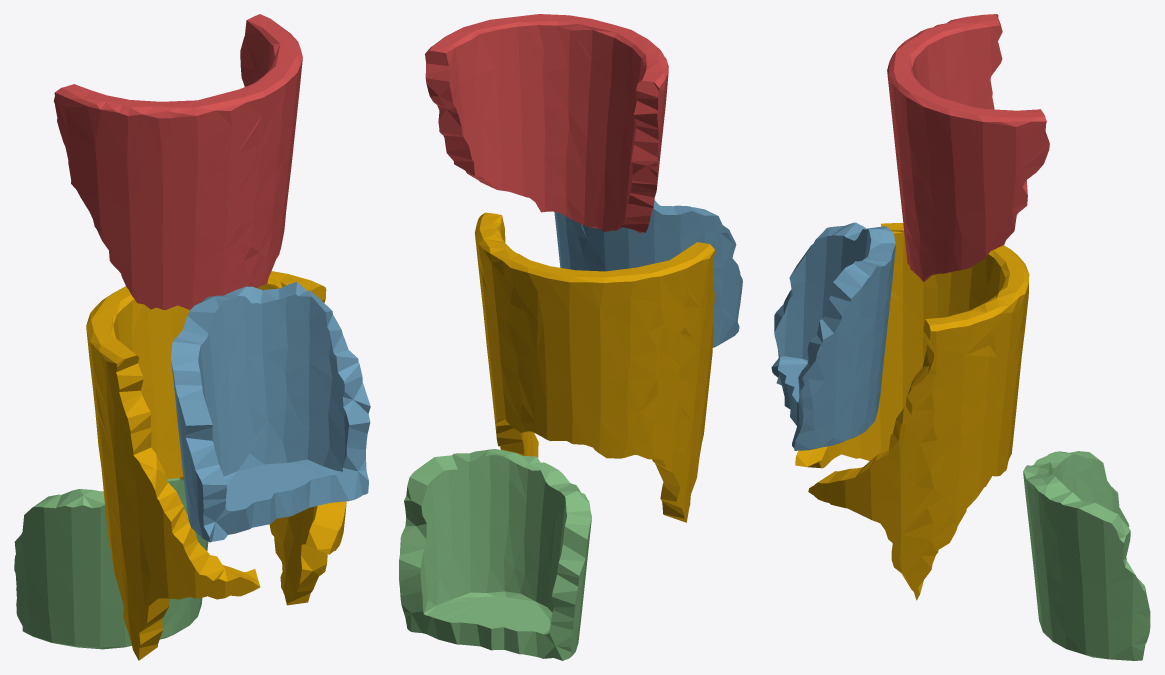
The model's file is mode_5_4pcs_transformed.glb.
3 renders of one model, left to right at view 1: azimuth 30°, elevation 25°; view 2: azimuth 150°, elevation 25°; view 3: azimuth 270°, elevation 25°, orthographic. The views are drawn at different scales.
Parts seen in each view (by area): view 1: piece_1.obj, piece_2.obj, piece_0.obj, piece_3.obj; view 2: piece_0.obj, piece_1.obj, piece_3.obj, piece_2.obj; view 3: piece_0.obj, piece_1.obj, piece_2.obj, piece_3.obj.
Boxes of the visible parts, box(x1,y1,x2,y2) form: piece_1.obj: box(54, 14, 302, 310); piece_2.obj: box(171, 282, 370, 542); piece_0.obj: box(86, 271, 346, 660); piece_3.obj: box(14, 478, 208, 649); piece_0.obj: box(475, 212, 714, 522); piece_1.obj: box(425, 14, 668, 233); piece_3.obj: box(399, 449, 591, 660); piece_2.obj: box(554, 200, 742, 347); piece_0.obj: box(795, 223, 1029, 600); piece_1.obj: box(887, 14, 1049, 281); piece_2.obj: box(771, 222, 895, 450); piece_3.obj: box(1023, 451, 1150, 660).
Bounding box in the file's own units: 0.6712 × 1.6 × 0.983.
